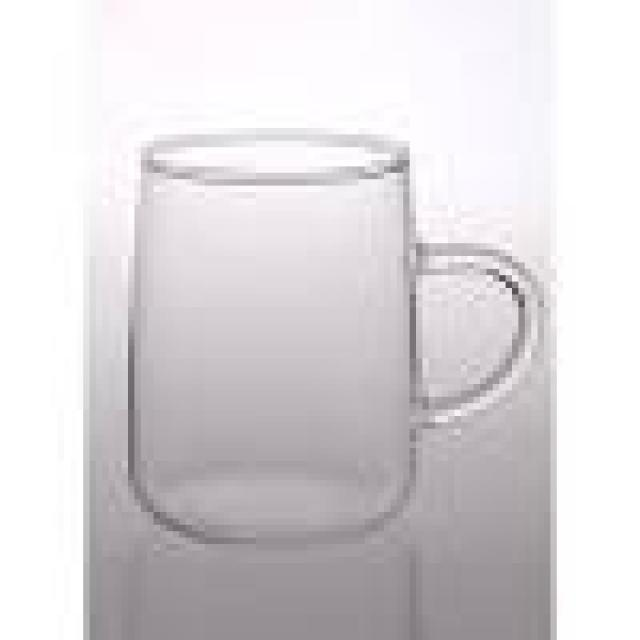Dry: (126, 131, 542, 544)
